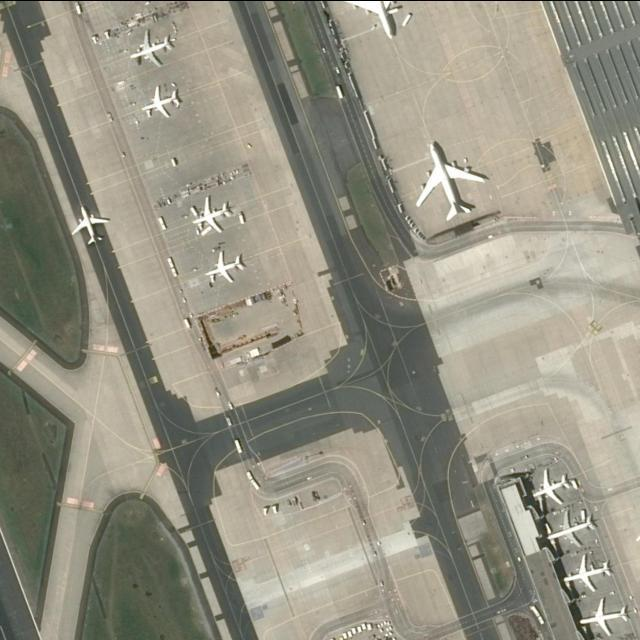Aircraft: (413, 137, 490, 217), (347, 1, 410, 41), (68, 200, 112, 251), (578, 598, 632, 638), (548, 509, 599, 550), (558, 554, 604, 594), (133, 28, 177, 68), (207, 243, 247, 287), (187, 196, 233, 232), (531, 469, 578, 504), (138, 84, 181, 118)
